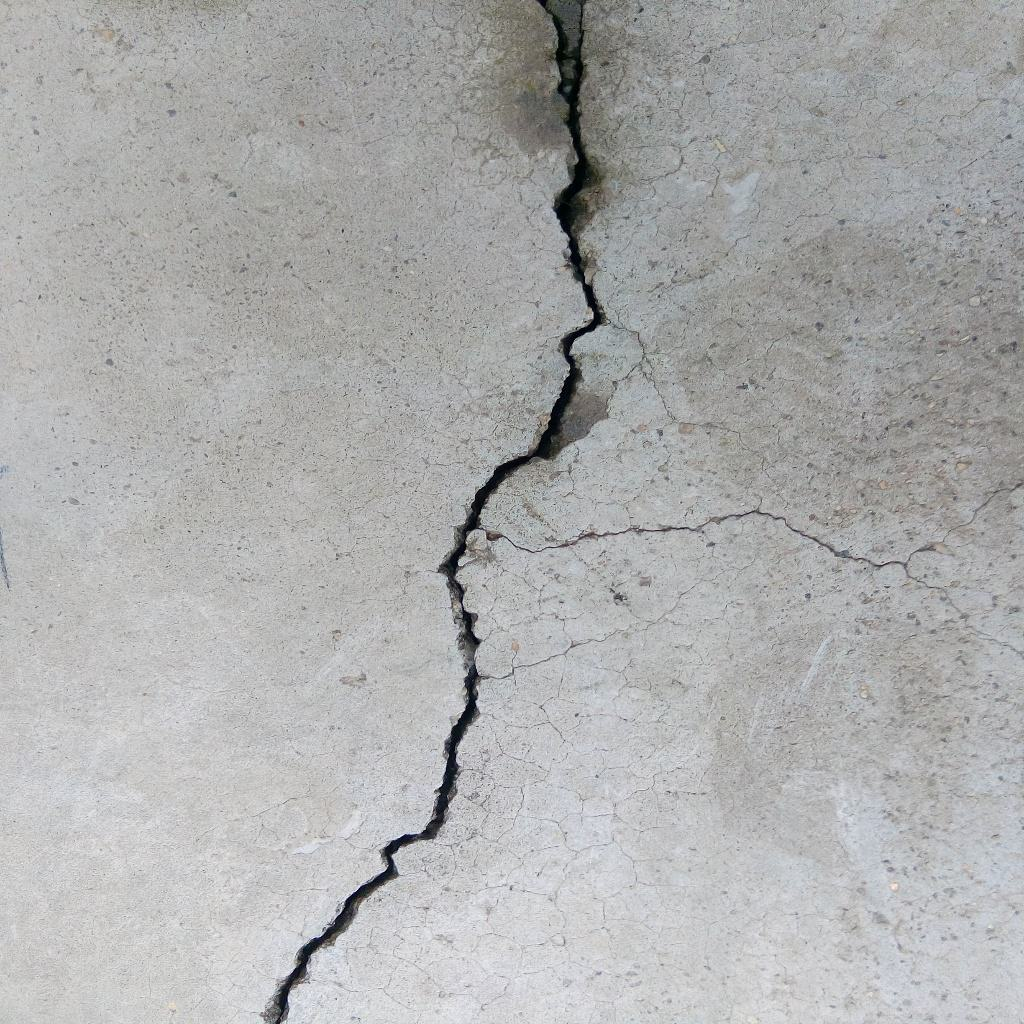Crack: (261, 1, 610, 1024), (485, 474, 1024, 570)
